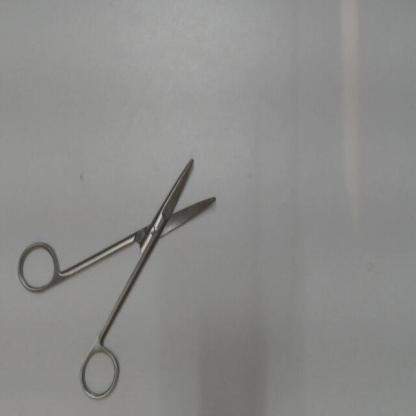Curved Mayo Scissors: (14, 146, 222, 405)
